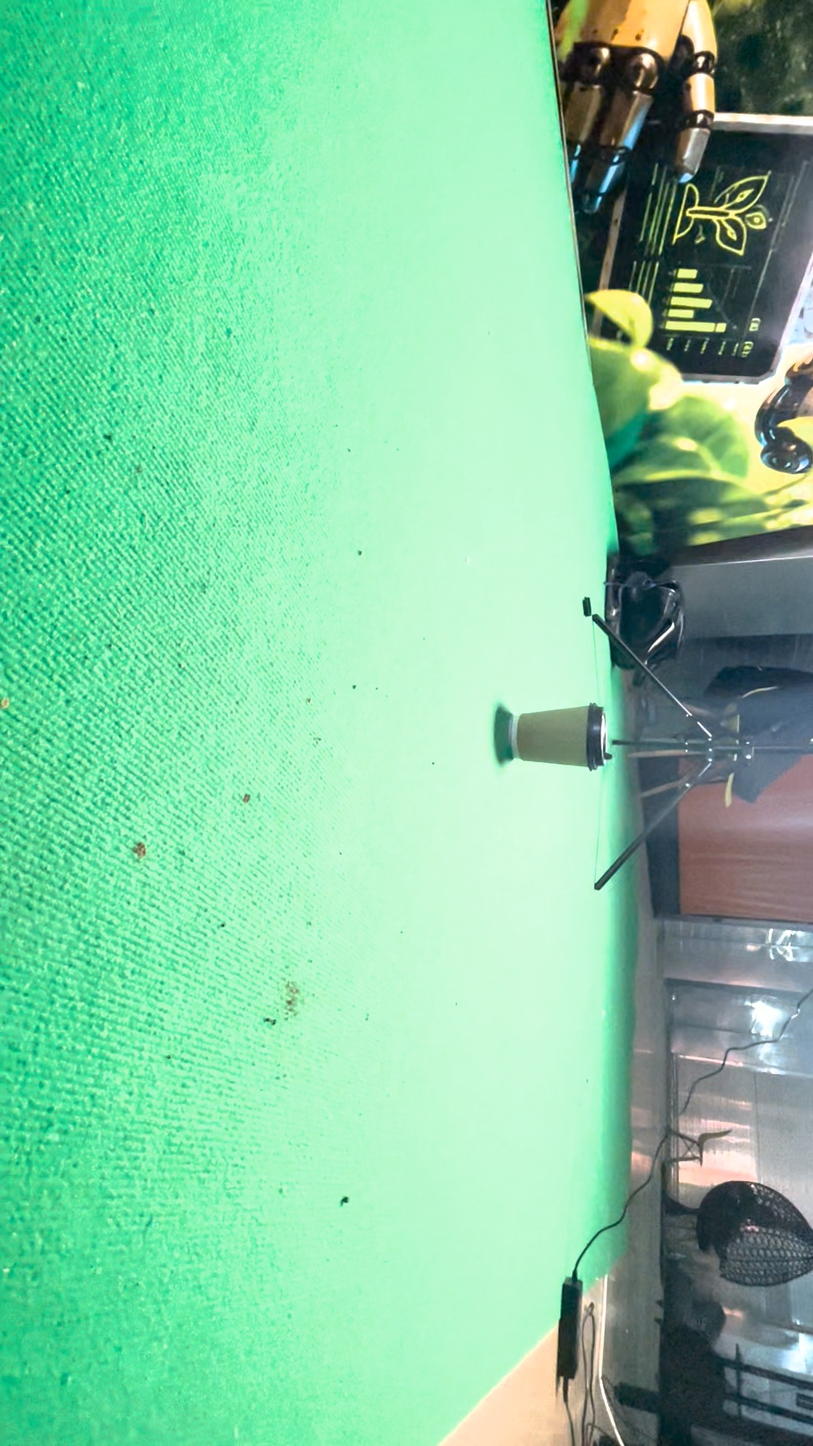cup: (434, 443, 520, 859)
